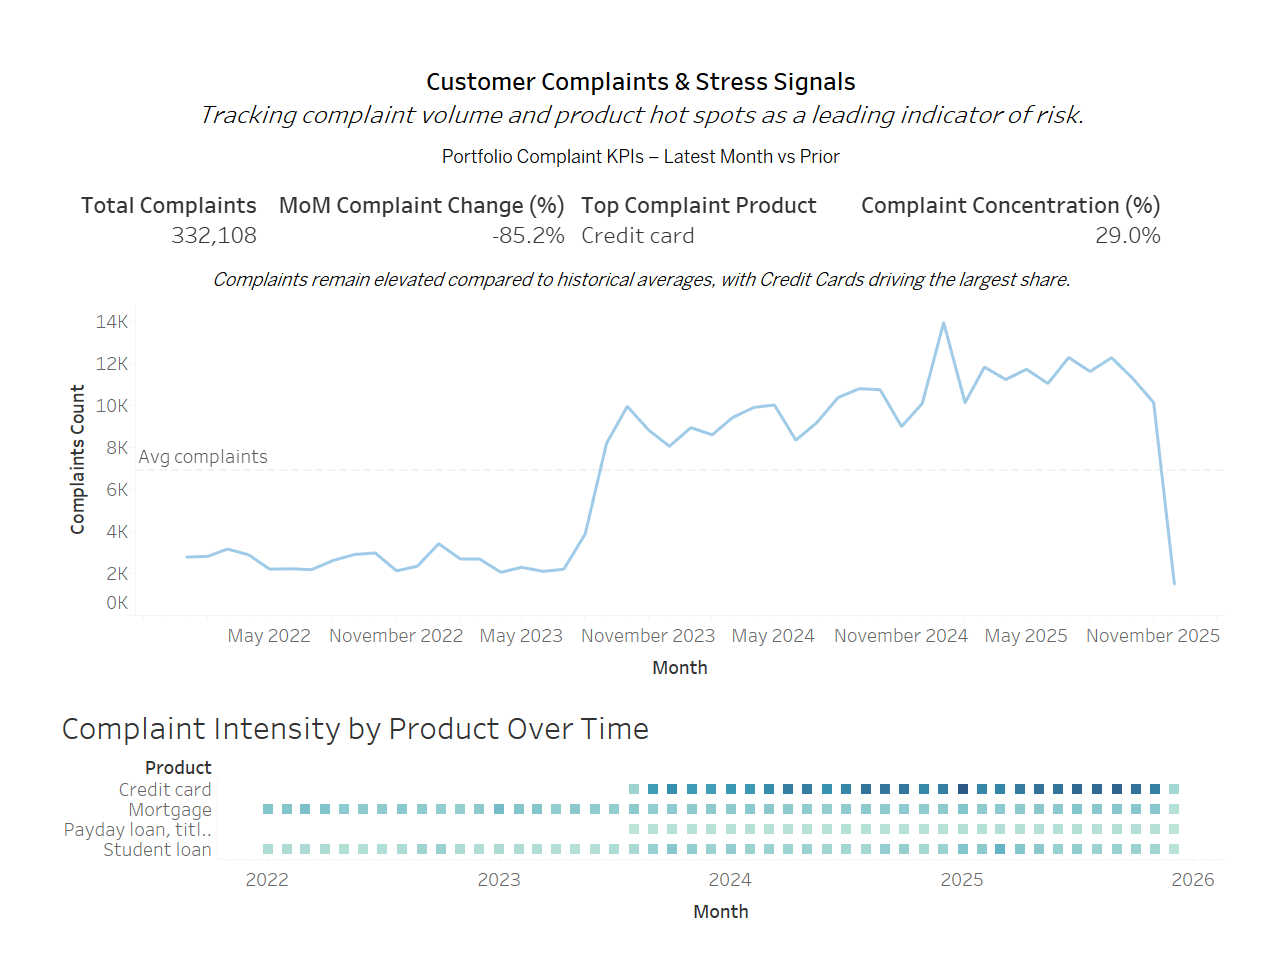

The dashboard page shown, as its layout file describes it:
{"tool":"tableau","page":{"name":"Customer Complaints & Stress","canvas":[1200,900],"ordinal":0},"visuals":[{"type":"text","box":[8,8,1184,83]},{"type":"text","box":[8,91,1184,39]},{"type":"worksheet","title":"Total Complaints","mark":"Automatic","box":[16,138,208,69]},{"type":"worksheet","title":"MoM Complaint Change","mark":"Automatic","box":[224,138,308,69]},{"type":"worksheet","title":"Top Complaint Product","mark":"Text","box":[532,138,268,69]},{"type":"worksheet","title":"Complaint Concentration (%)","mark":"Text","box":[800,138,328,69]},{"type":"text","box":[8,215,1184,37]},{"type":"worksheet","title":"Complaint Volume Trend","mark":"Automatic","rows":["complaints_count"],"cols":["month_start"],"box":[8,252,1184,396]},{"type":"worksheet","title":"Complaint Intensity by Product Over Time","mark":"Square","rows":["product"],"cols":["month_start"],"box":[8,648,1184,244]}]}

Visuals, with their boxes in screenshot pixels (x1, y1, x2, y2), scaled from the page's 1200x900 canvas onto the 1288x973 screenshot:
text: BBox(9, 9, 1279, 98)
text: BBox(9, 98, 1279, 141)
"Total Complaints" worksheet: BBox(17, 149, 240, 224)
"MoM Complaint Change" worksheet: BBox(240, 149, 571, 224)
"Top Complaint Product" worksheet (Text marks): BBox(571, 149, 859, 224)
"Complaint Concentration (%)" worksheet (Text marks): BBox(859, 149, 1211, 224)
text: BBox(9, 232, 1279, 272)
"Complaint Volume Trend" worksheet: BBox(9, 272, 1279, 701)
"Complaint Intensity by Product Over Time" worksheet (Square marks): BBox(9, 701, 1279, 964)
